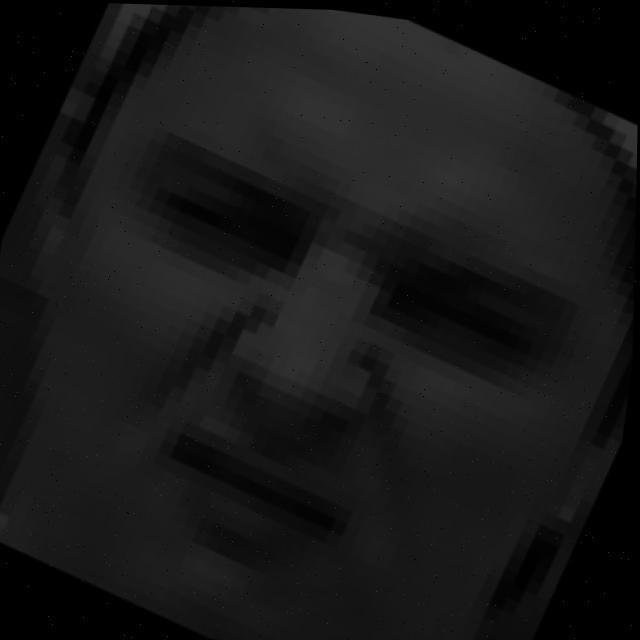Disgust: (67, 30, 640, 600)
